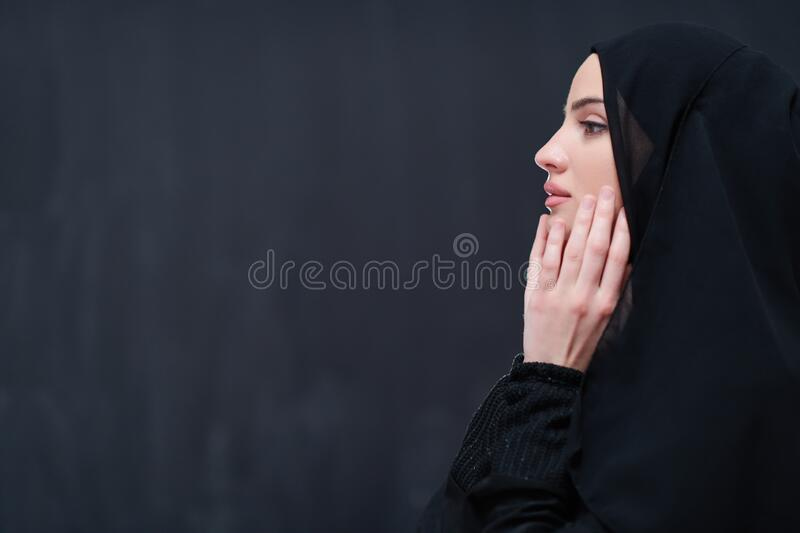No Mask: (522, 47, 669, 281)
